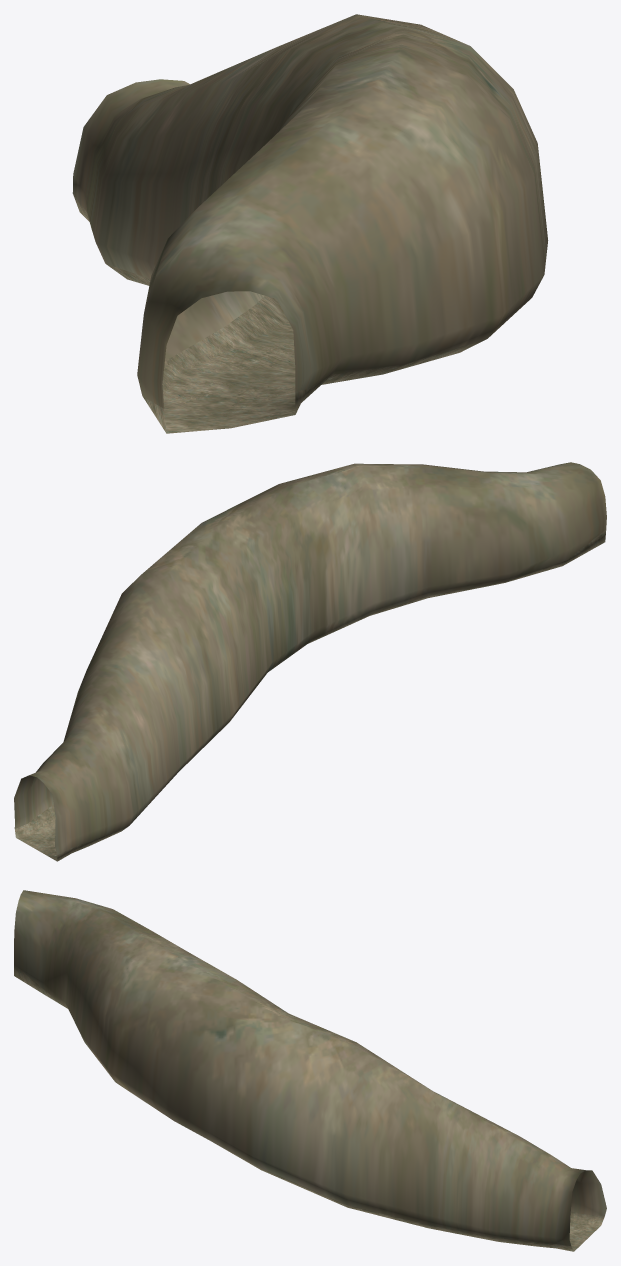
The model's file is EKH_JAIL_PS_JA_GR_LINE170.fbx.
The picture shows the model from 3 angles, top to bottom: view 1: azimuth 30°, elevation 25°; view 2: azimuth 150°, elevation 25°; view 3: azimuth 270°, elevation 25°; orthographic projection. The views are drawn at different scales.
Visible parts, largest first — view 1: EKH_JAIL_PS_JA_GR_LINE170; view 2: EKH_JAIL_PS_JA_GR_LINE170; view 3: EKH_JAIL_PS_JA_GR_LINE170.
Boxes of the visible parts, <box> form: EKH_JAIL_PS_JA_GR_LINE170: <box>72,14,548,433</box>; EKH_JAIL_PS_JA_GR_LINE170: <box>14,462,606,861</box>; EKH_JAIL_PS_JA_GR_LINE170: <box>14,890,606,1251</box>.
Size of the model in its own units: 131850 by 92635 by 207471.
1 material, 1 textured.
